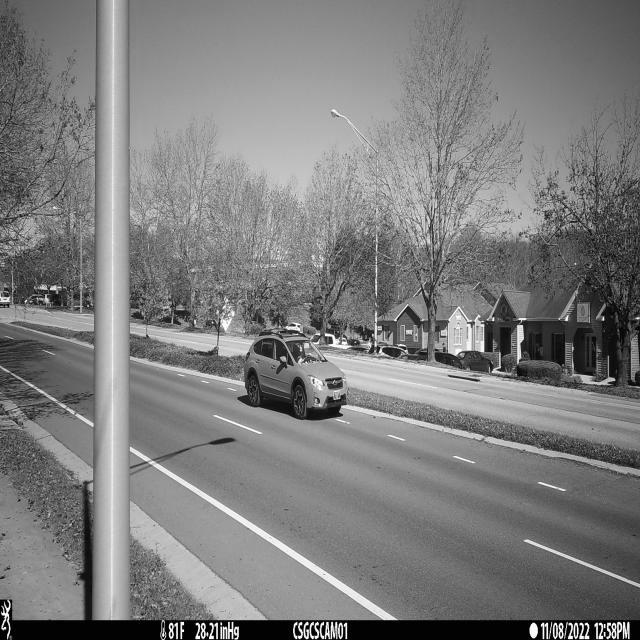SUV: (244, 329, 348, 420)
